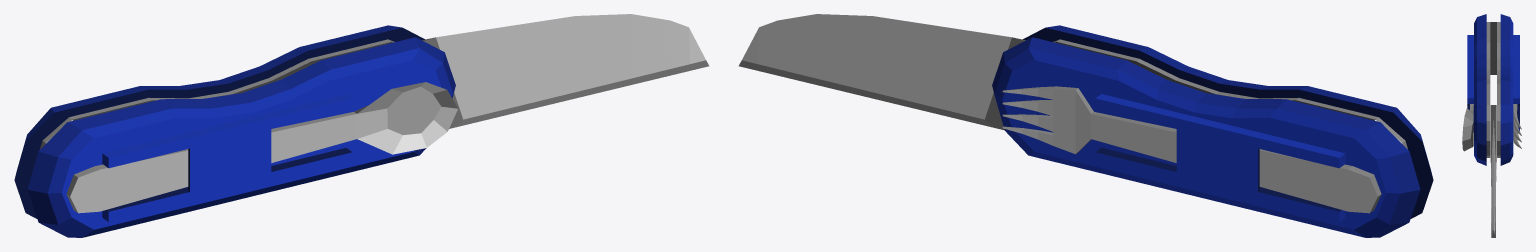
Rendered from UtensilTool.fbx.
3 views of the same model, side by side, from view 1: azimuth 30°, elevation 25°; view 2: azimuth 150°, elevation 25°; view 3: azimuth 270°, elevation 25° (orthographic). The views are drawn at different scales.
Parts seen in each view (by area): view 1: ZomboidUtensilTool; view 2: ZomboidUtensilTool; view 3: ZomboidUtensilTool.
Part boxes in pixels (<box>): ZomboidUtensilTool: <box>14,14,709,237</box>; ZomboidUtensilTool: <box>738,14,1433,237</box>; ZomboidUtensilTool: <box>1462,14,1521,237</box>.
Bounding box in the file's own units: 0.2124 × 0.0342 × 0.0299.
